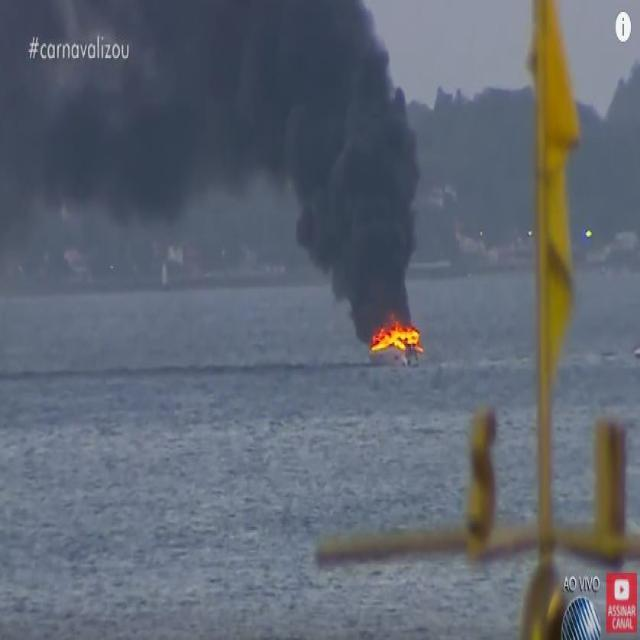Fire: (376, 320, 423, 352)
Smoke: (304, 8, 393, 273)
